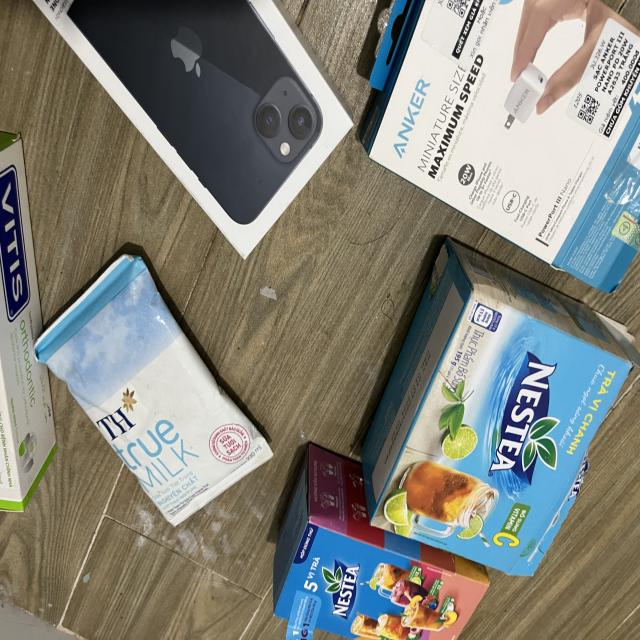cardboard box: (360, 233, 640, 580), (34, 0, 353, 257), (367, 0, 640, 294), (274, 445, 490, 640), (0, 130, 59, 516)
packet: (29, 255, 275, 527)
